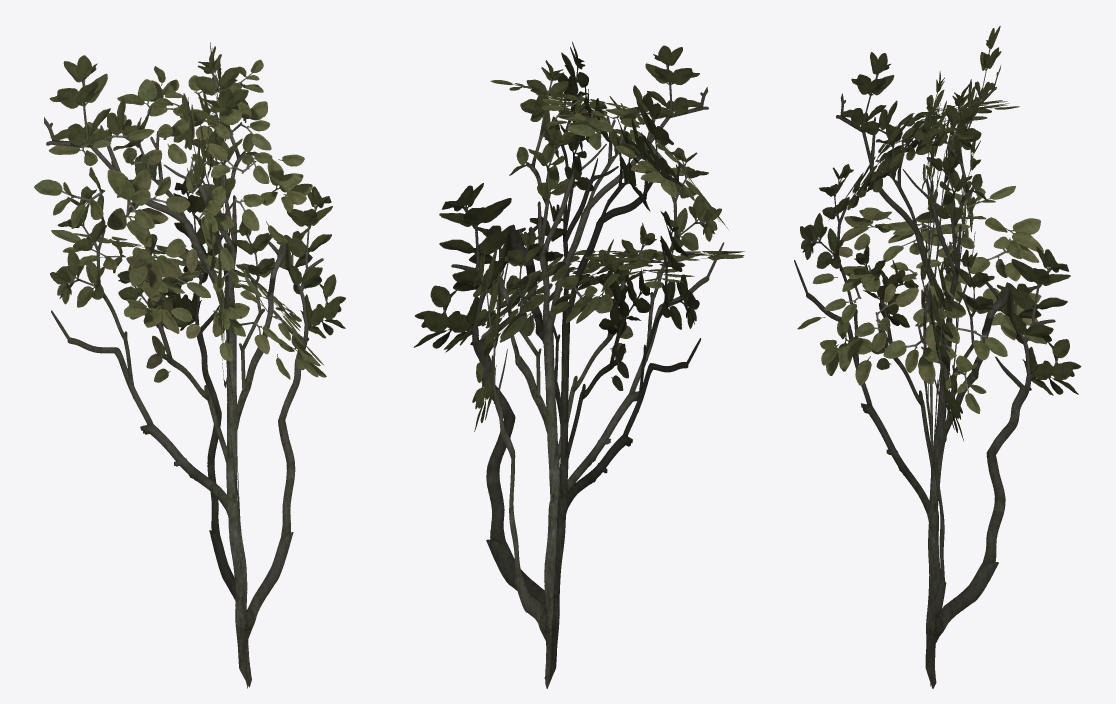
The model's file is TI_Tree_Top_Branch_01.fbx.
The picture shows the model from 3 angles, left to right: view 1: azimuth 30°, elevation 25°; view 2: azimuth 150°, elevation 25°; view 3: azimuth 270°, elevation 25°; orthographic projection. The views are drawn at different scales.
Visible parts, largest first — view 1: TI_Tree_Top_Branch_01_fbx; view 2: TI_Tree_Top_Branch_01_fbx; view 3: TI_Tree_Top_Branch_01_fbx.
Part boxes in pixels (bbox=[...]): TI_Tree_Top_Branch_01_fbx: bbox=[34, 42, 345, 688]; TI_Tree_Top_Branch_01_fbx: bbox=[413, 41, 744, 688]; TI_Tree_Top_Branch_01_fbx: bbox=[794, 26, 1081, 688].
Size of the model in its own units: 1.11 by 2.07 by 0.962.
